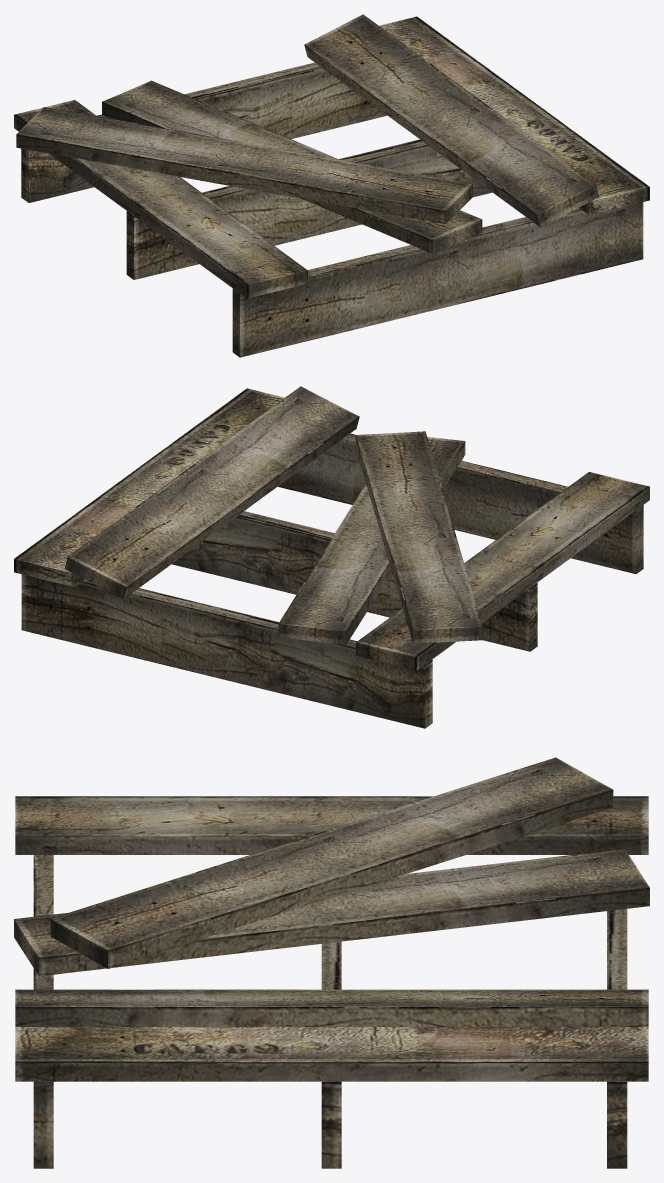
Rendered from CargoWood03.fbx.
3 renders of one model, top to bottom at view 1: azimuth 30°, elevation 25°; view 2: azimuth 150°, elevation 25°; view 3: azimuth 270°, elevation 25°, orthographic. The views are drawn at different scales.
Parts seen in each view (by area): view 1: CargoWood03; view 2: CargoWood03; view 3: CargoWood03.
Part boxes in pixels (x1,y1,x2,y2): CargoWood03: [14, 14, 649, 357]; CargoWood03: [14, 386, 649, 728]; CargoWood03: [14, 757, 649, 1168].
Bounding box in the file's own units: 56.78 × 11.53 × 52.94.
